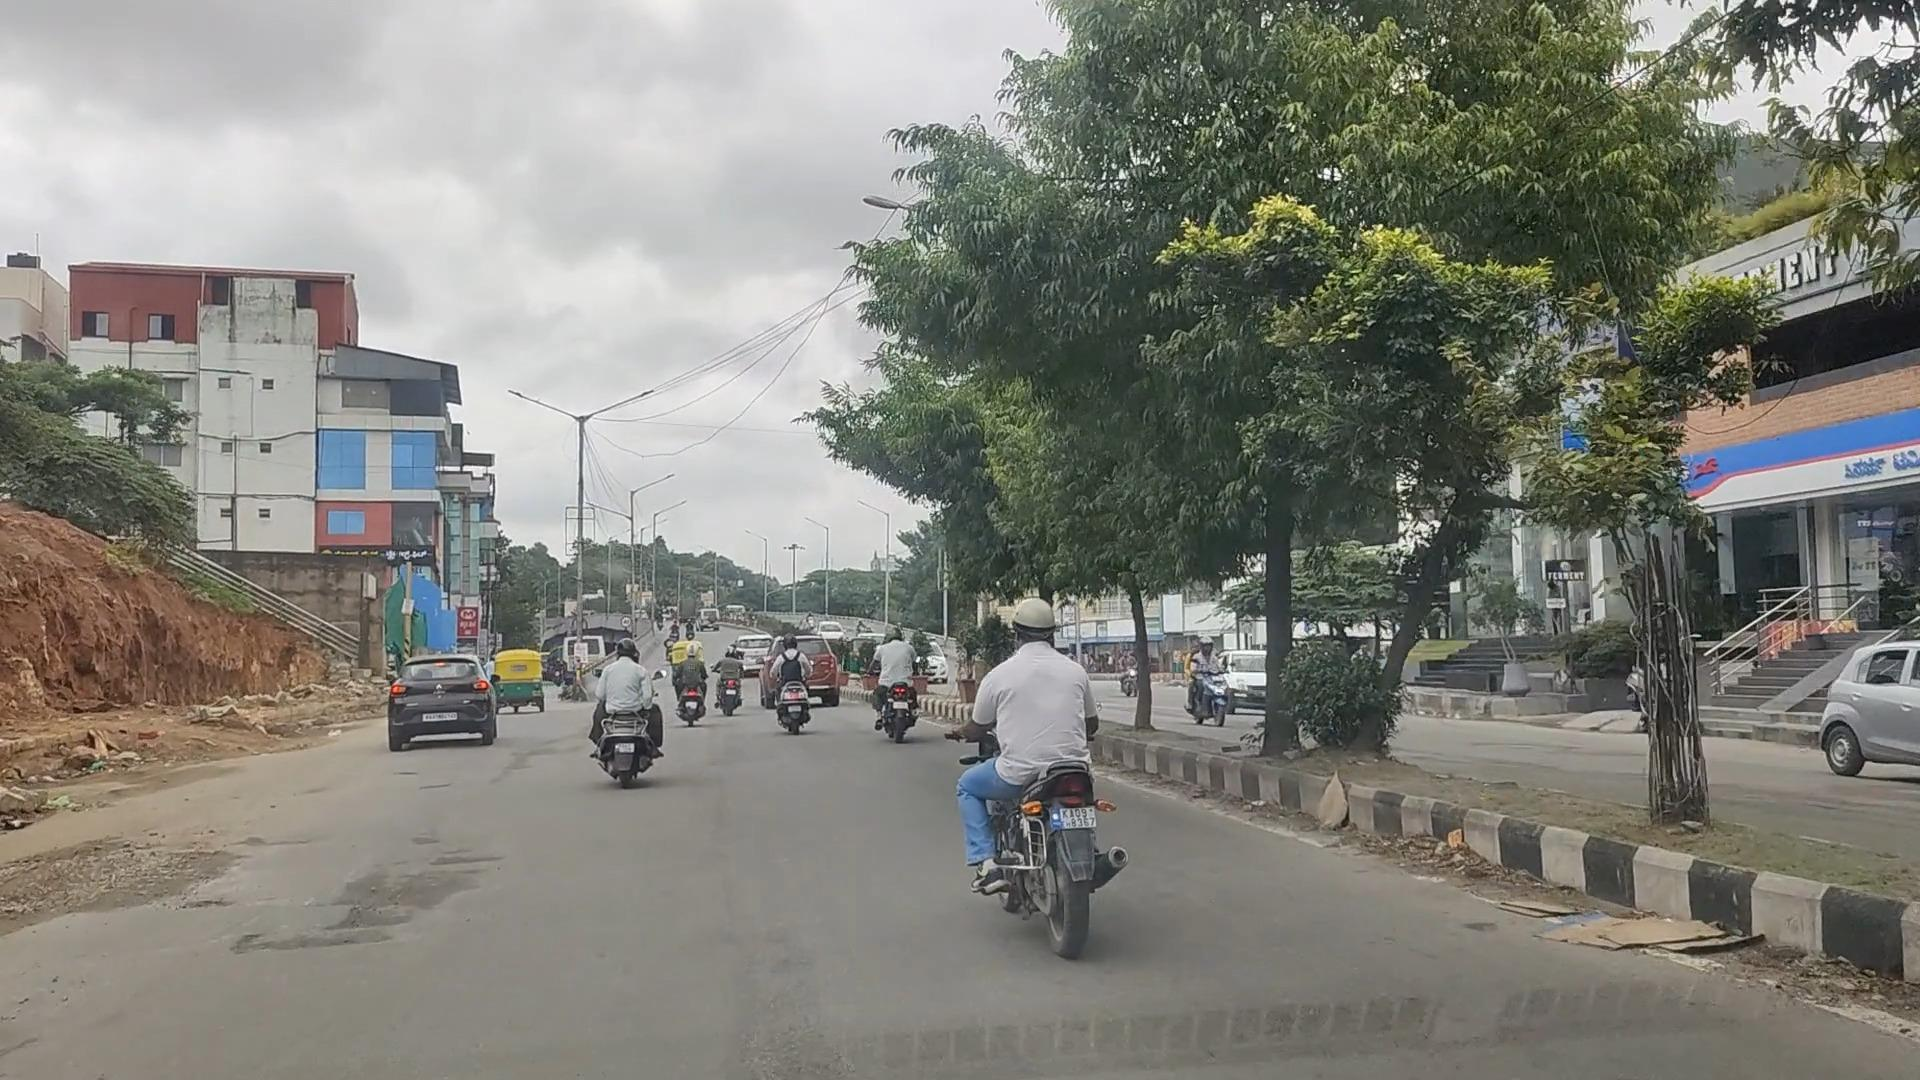LMV: (960, 613, 1131, 927), (593, 640, 655, 778), (393, 650, 485, 741), (764, 626, 824, 738), (870, 640, 922, 721)
RoadDamages: (0, 807, 240, 1001), (264, 810, 529, 972)
